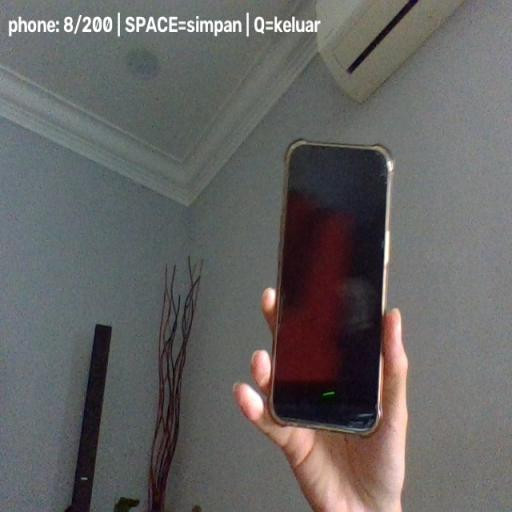Phone: (266, 139, 394, 438)
